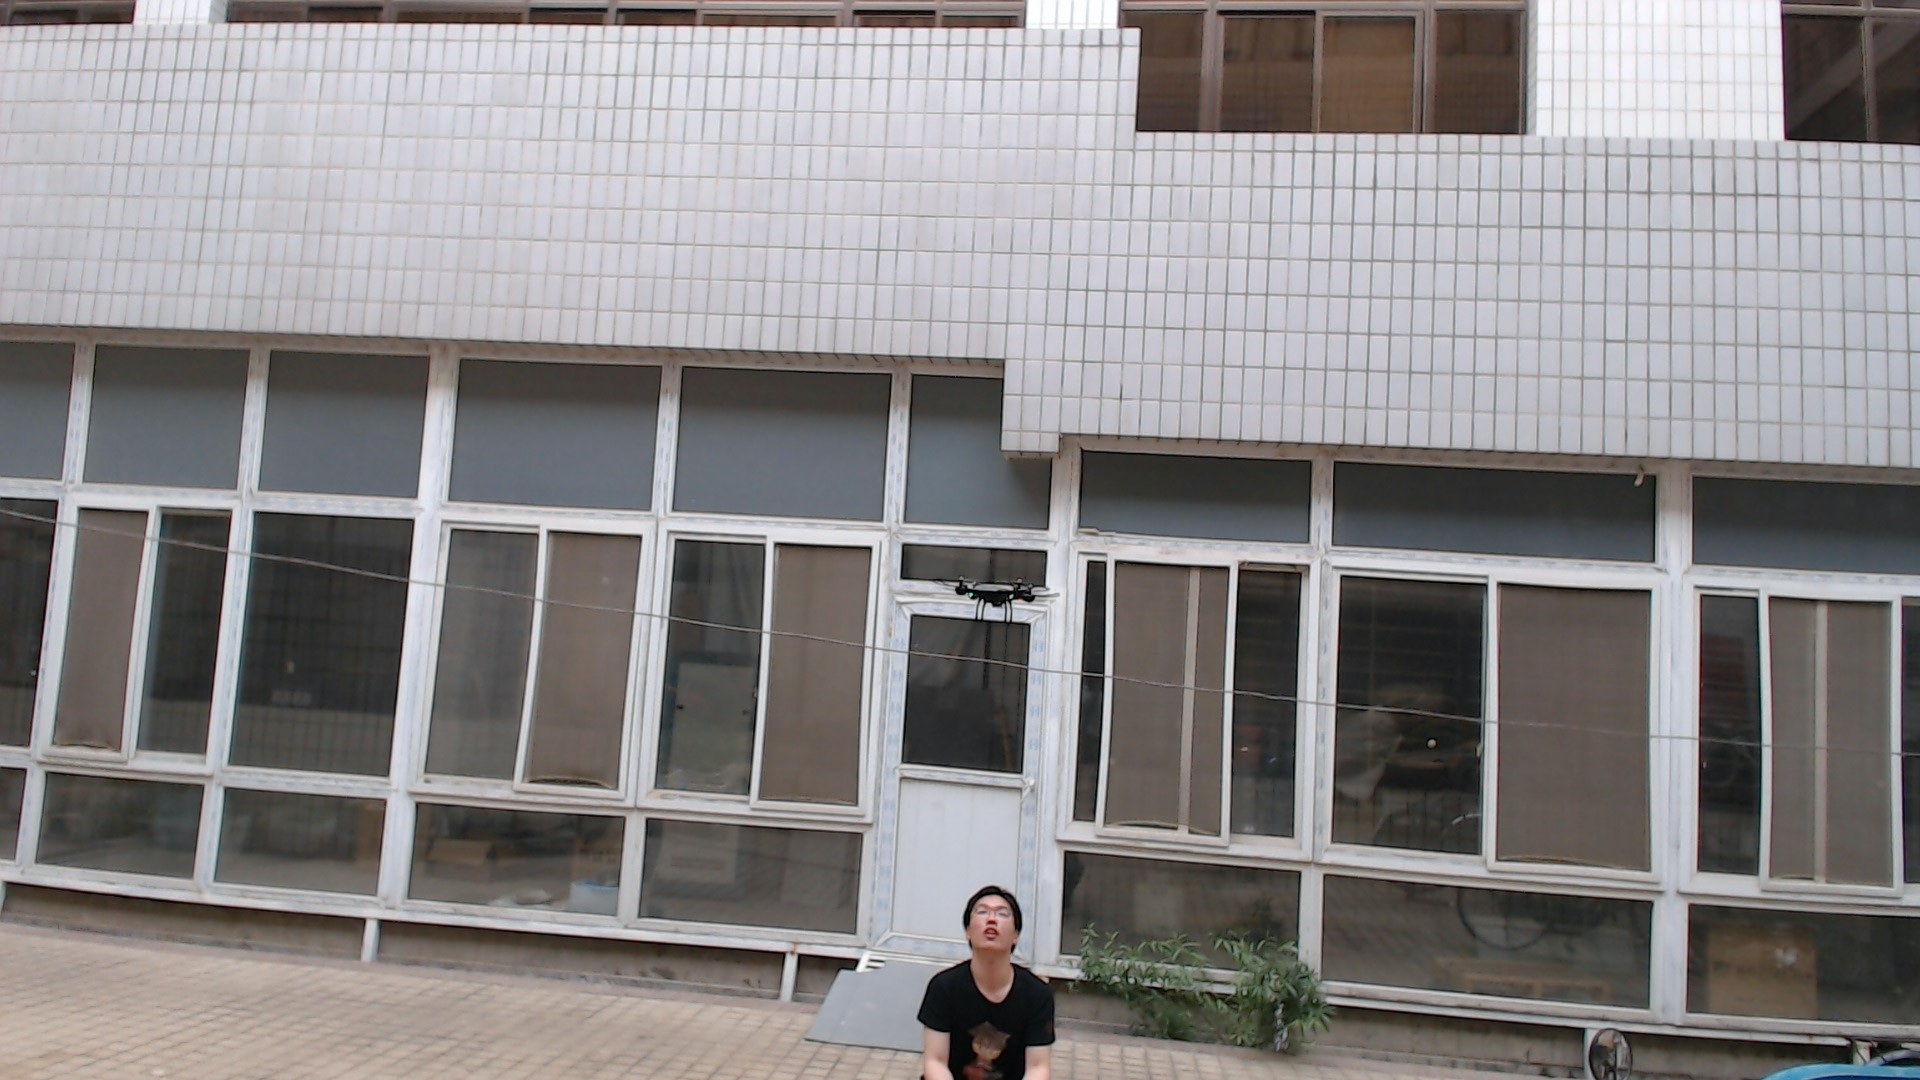drone: (926, 559, 1069, 636)
person: (921, 881, 1056, 1080)
